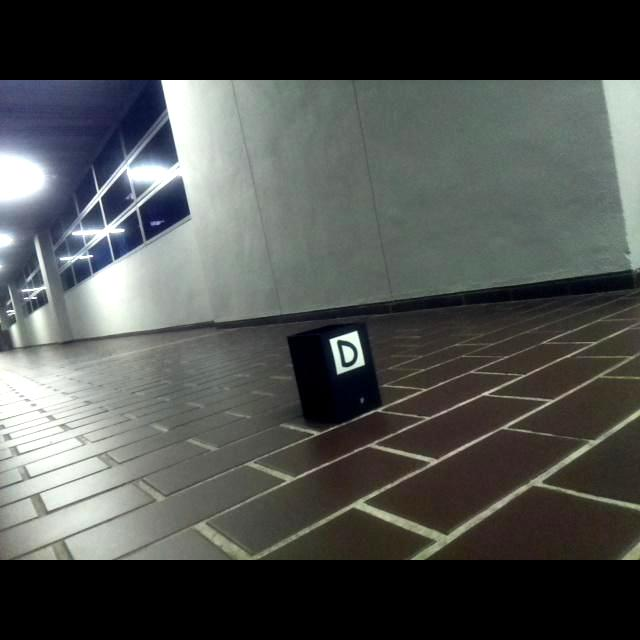D: (337, 340, 359, 368)
